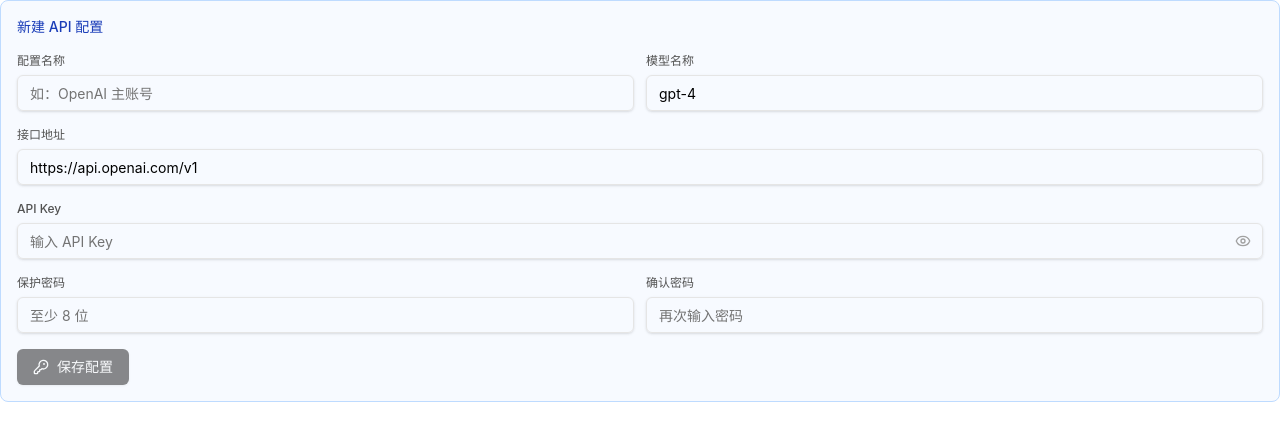
Test: APISettings - Mode A: no API key configured › shows inline weak password hint
In the password field labelled "保护密码": (326, 315) [17, 297, 634, 333], type "abc"
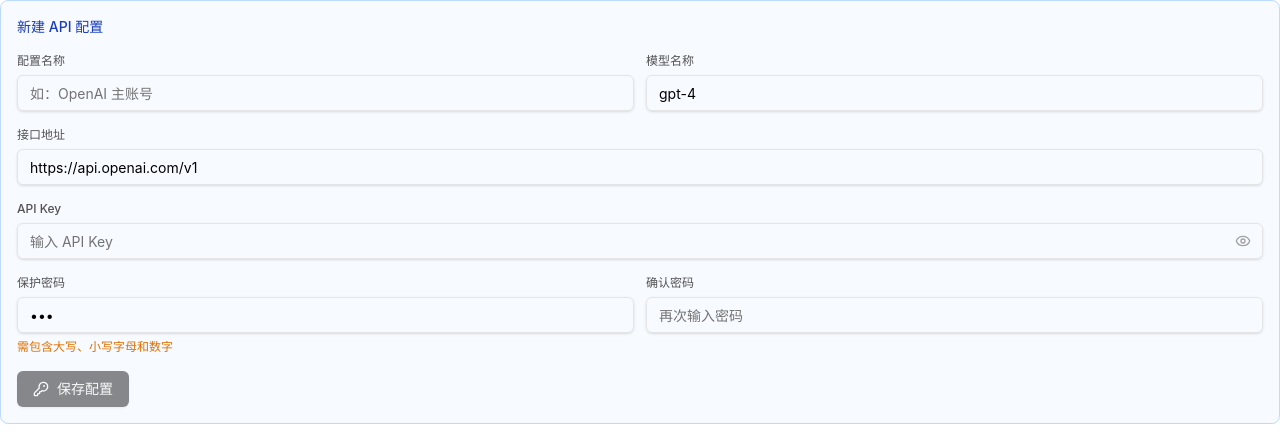
expect the text "需包含大写、小写字母和数字" is shown: met, box [17, 339, 173, 354]
